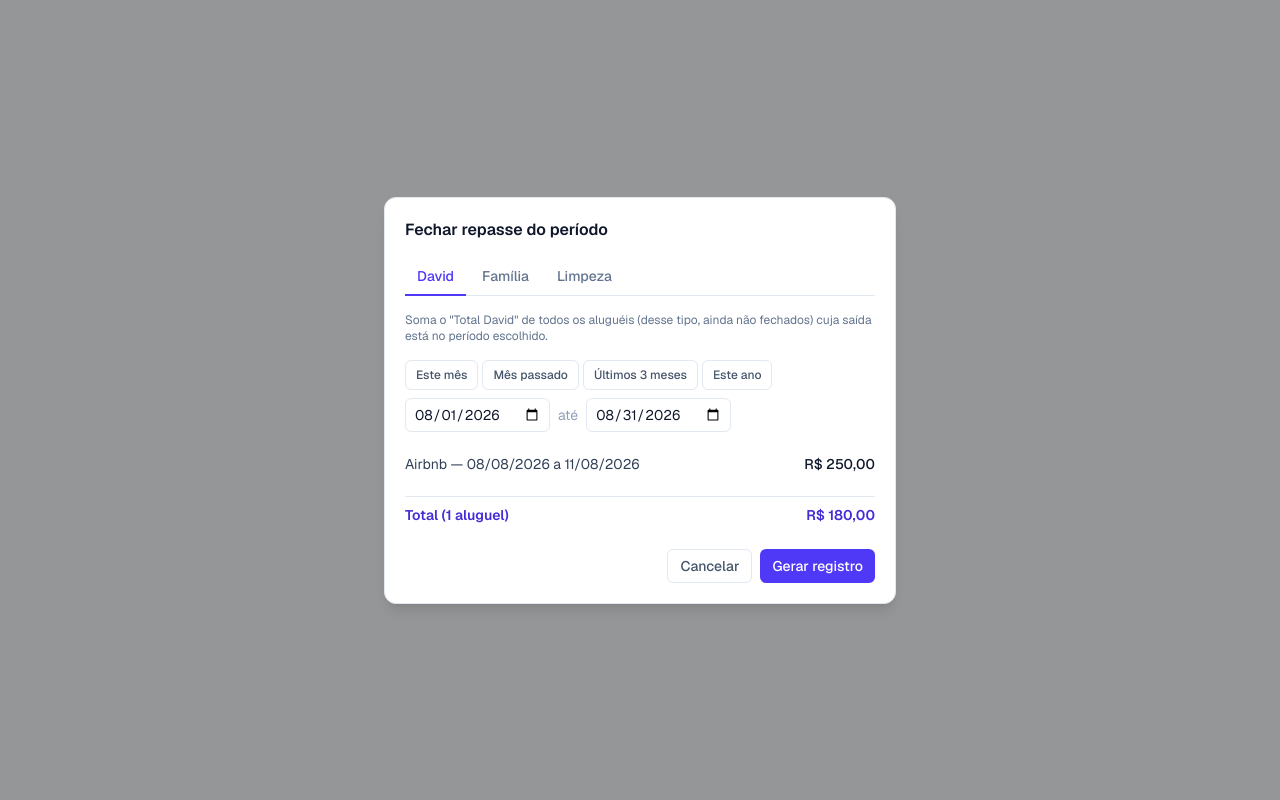
Test: SettlementModal — gerar o repasse › mostra o rótulo Limpeza no resultado quando é esse o tipo
expect the text "Airbnb — 08/08/2026 a 11/08/2026" is shown: met, box [405,454,640,474]
Click the button "Limpeza" at (584,276), box [545,258,624,296]
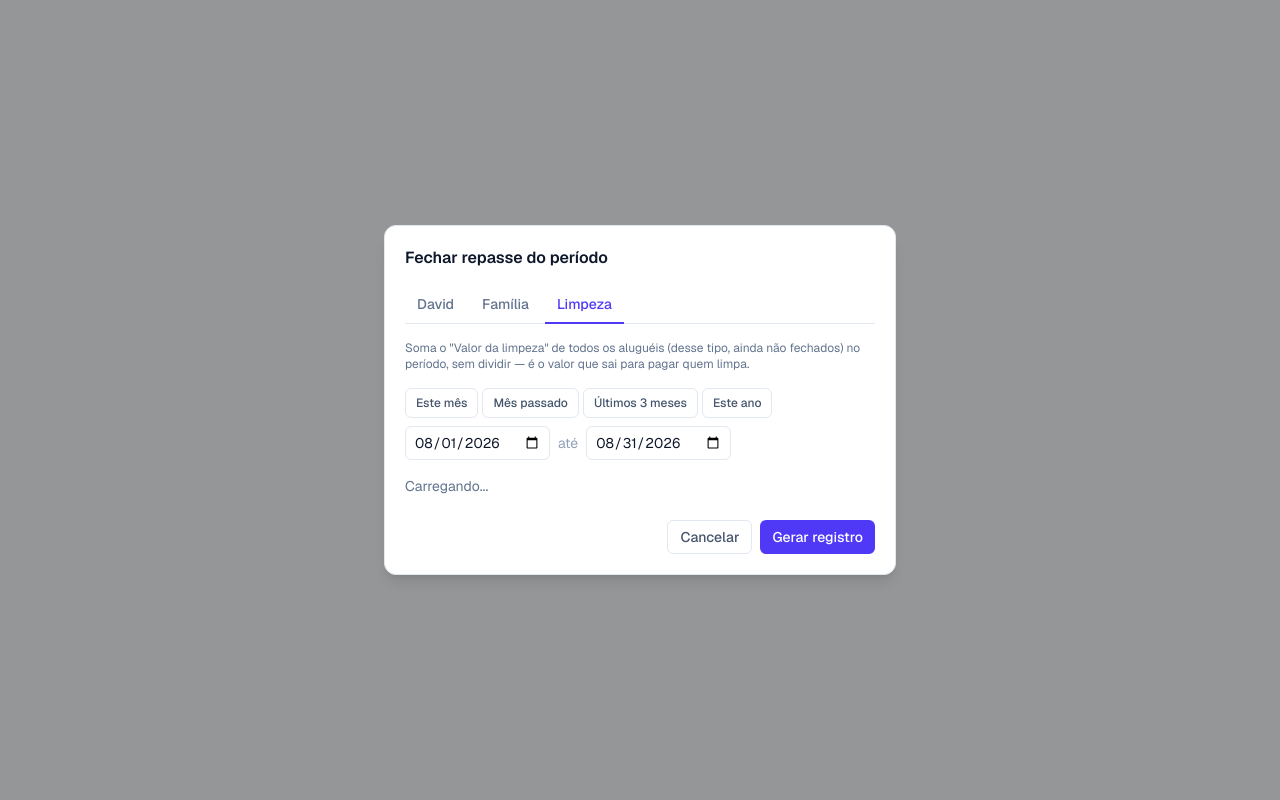
expect the text "sem dividir" is shown: met, box [405,340,860,372]
Click the button "Gerar registro" at (818,537), box [760,520,875,554]
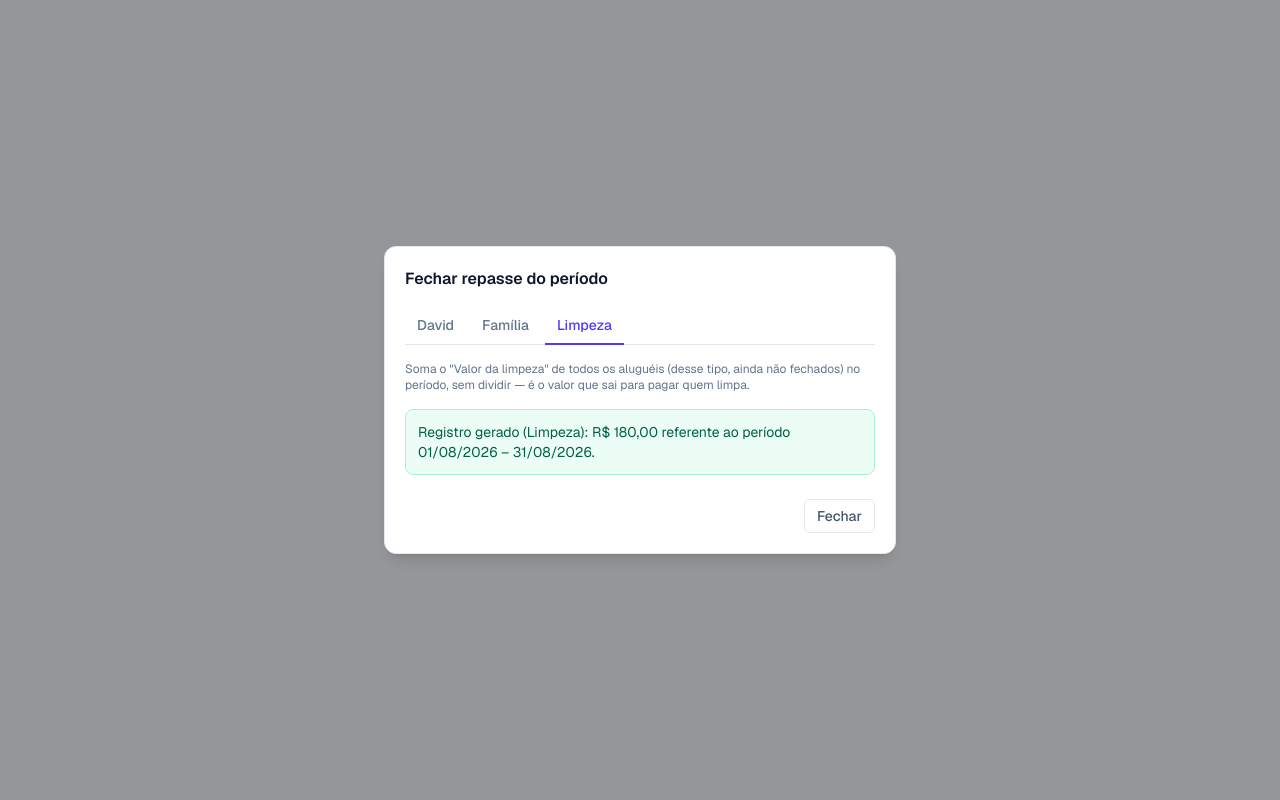
expect the text "Registro gerado (Limpeza)" is shown: met, box [405,409,875,475]
